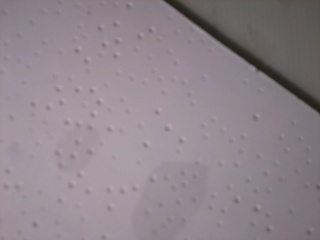Water_detected: (128, 157, 199, 235), (49, 119, 106, 176)
